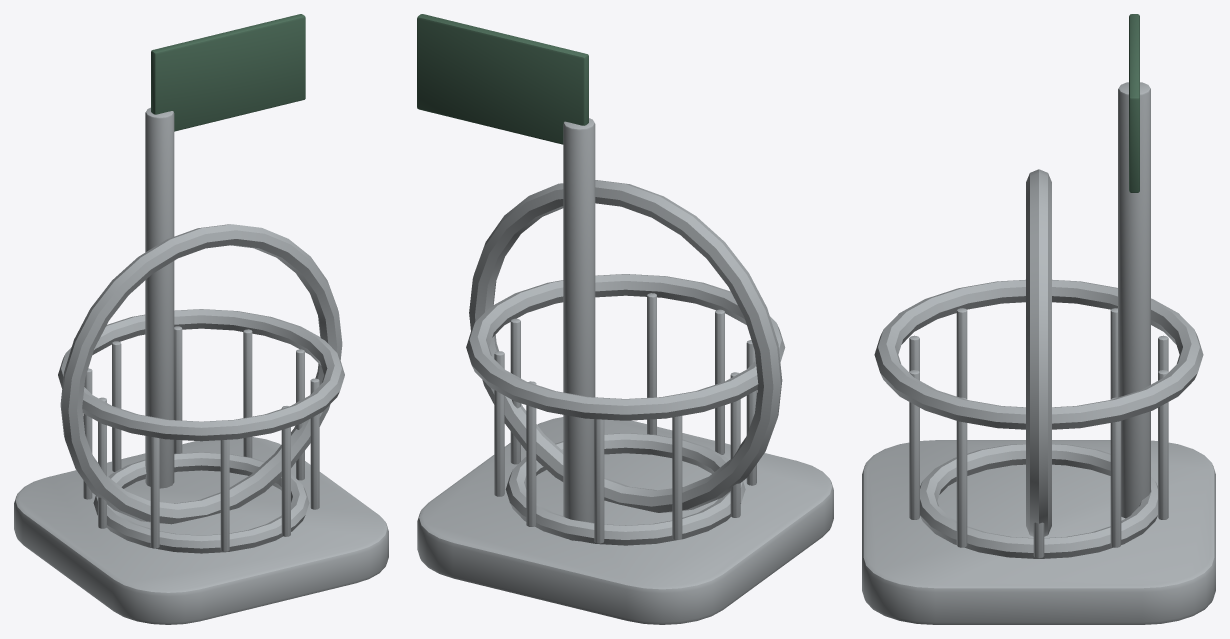
The model's file is practice_basket_public.glb.
The picture shows the model from 3 angles, left to right: view 1: azimuth 30°, elevation 25°; view 2: azimuth 150°, elevation 25°; view 3: azimuth 270°, elevation 25°; orthographic projection. The views are drawn at different scales.
Visible parts, largest first — view 1: PracticeBasket_Base, PracticeBasket_TargetRing_1, PracticeBasket_Flag, PracticeBasket_Collector_TopRing, PracticeBasket_Mast, PracticeBasket_Collector_BottomRing, PracticeBasket_Collector_Wire_8, PracticeBasket_Collector_Wire_7, PracticeBasket_Collector_Wire_9, PracticeBasket_Collector_Wire_4, PracticeBasket_Collector_Wire_2, PracticeBasket_Collector_Wire_10 (+4 smaller); view 2: PracticeBasket_Base, PracticeBasket_TargetRing_1, PracticeBasket_Flag, PracticeBasket_Collector_TopRing, PracticeBasket_Mast, PracticeBasket_Collector_BottomRing, PracticeBasket_Collector_Wire_4, PracticeBasket_Collector_Wire_5, PracticeBasket_Collector_Wire_3, PracticeBasket_Collector_Wire_2, PracticeBasket_Collector_Wire_8, PracticeBasket_Collector_Wire_9 (+3 smaller); view 3: PracticeBasket_Base, PracticeBasket_Collector_TopRing, PracticeBasket_Mast, PracticeBasket_TargetRing_1, PracticeBasket_Collector_BottomRing, PracticeBasket_Flag, PracticeBasket_Collector_Wire_10, PracticeBasket_Collector_Wire_2, PracticeBasket_Collector_Wire_3, PracticeBasket_Collector_Wire_9, PracticeBasket_Collector_Wire_7, PracticeBasket_Collector_Wire_5.
Part boxes in pixels (<box>): PracticeBasket_Base: <box>14,437,388,624</box>; PracticeBasket_TargetRing_1: <box>60,224,342,524</box>; PracticeBasket_Flag: <box>151,14,305,131</box>; PracticeBasket_Collector_TopRing: <box>58,309,344,441</box>; PracticeBasket_Mast: <box>145,107,174,488</box>; PracticeBasket_Collector_BottomRing: <box>93,452,309,553</box>; PracticeBasket_Collector_Wire_8: <box>220,439,229,551</box>; PracticeBasket_Collector_Wire_7: <box>150,437,159,548</box>; PracticeBasket_Collector_Wire_9: <box>281,406,290,536</box>; PracticeBasket_Collector_Wire_4: <box>112,341,121,471</box>; PracticeBasket_Collector_Wire_2: <box>243,329,252,457</box>; PracticeBasket_Collector_Wire_10: <box>310,378,319,509</box>; PracticeBasket_Base: <box>417,417,833,624</box>; PracticeBasket_TargetRing_1: <box>469,180,782,512</box>; PracticeBasket_Flag: <box>417,14,588,144</box>; PracticeBasket_Collector_TopRing: <box>466,274,785,420</box>; PracticeBasket_Mast: <box>563,118,595,541</box>; PracticeBasket_Collector_BottomRing: <box>505,433,745,545</box>; PracticeBasket_Collector_Wire_4: <box>594,419,604,543</box>; PracticeBasket_Collector_Wire_5: <box>672,416,682,539</box>; PracticeBasket_Collector_Wire_3: <box>526,381,536,526</box>; PracticeBasket_Collector_Wire_2: <box>494,351,504,496</box>; PracticeBasket_Collector_Wire_8: <box>715,309,724,454</box>; PracticeBasket_Collector_Wire_9: <box>647,293,656,434</box>; PracticeBasket_Base: <box>862,440,1215,624</box>; PracticeBasket_Collector_TopRing: <box>874,279,1203,429</box>; PracticeBasket_Mast: <box>1118,82,1150,518</box>; PracticeBasket_TargetRing_1: <box>1026,169,1051,536</box>; PracticeBasket_Collector_BottomRing: <box>920,444,1157,558</box>; PracticeBasket_Flag: <box>1129,14,1139,192</box>; PracticeBasket_Collector_Wire_10: <box>956,397,967,547</box>; PracticeBasket_Collector_Wire_2: <box>1110,397,1121,547</box>; PracticeBasket_Collector_Wire_3: <box>1158,370,1168,519</box>; PracticeBasket_Collector_Wire_9: <box>909,370,919,519</box>; PracticeBasket_Collector_Wire_7: <box>956,308,967,399</box>; PracticeBasket_Collector_Wire_5: <box>1110,308,1117,399</box>.
Size of what is drawn, in the model's own units: 0.4092 by 0.6426 by 0.3848.
